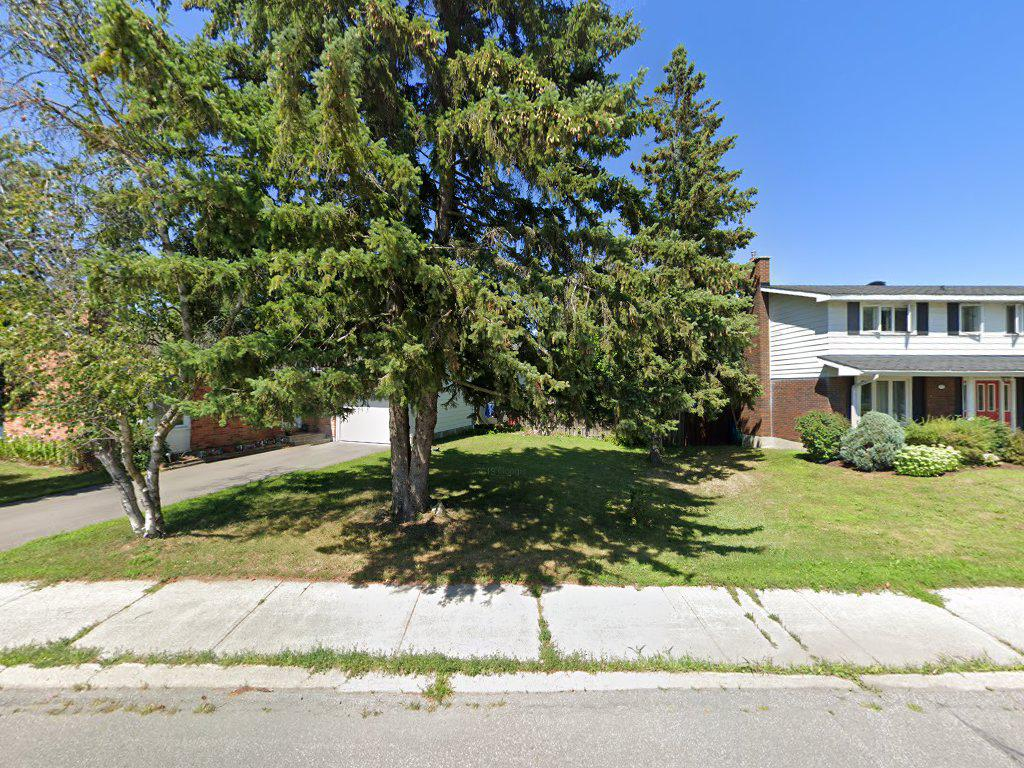trunk: (384, 385, 444, 530), (96, 456, 175, 546)
